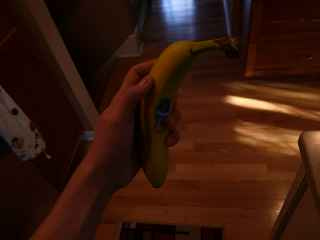banana: (133, 32, 245, 192)
